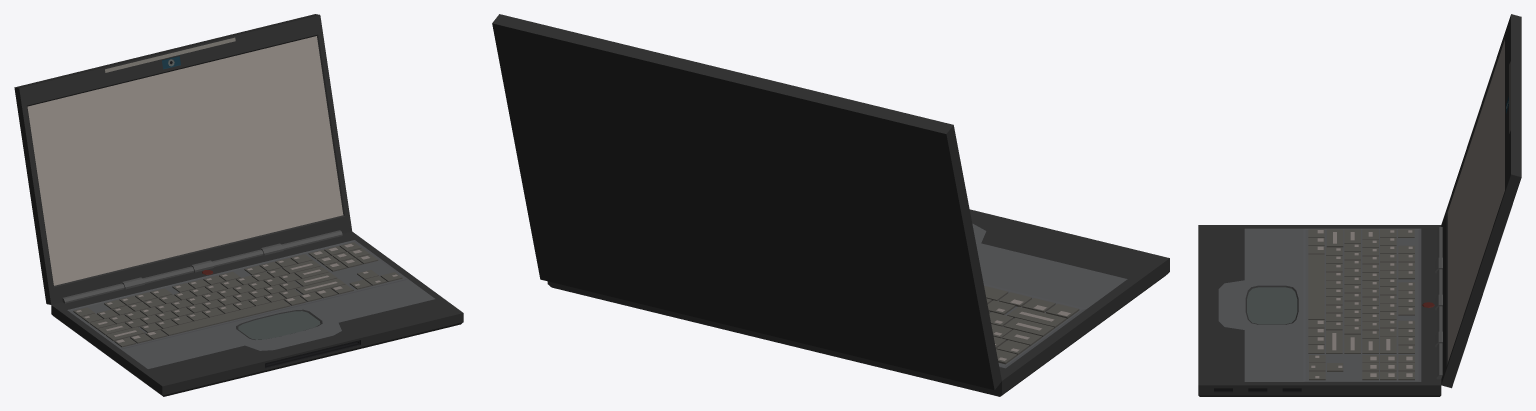
File: Notebook.gltf
The picture shows the model from 3 angles, left to right: view 1: azimuth 30°, elevation 25°; view 2: azimuth 150°, elevation 25°; view 3: azimuth 270°, elevation 25°; orthographic projection. The views are drawn at different scales.
Parts seen in each view (by area): view 1: Laptop_Screen, Notebook; view 2: Laptop_Screen, Notebook; view 3: Notebook, Laptop_Screen.
Boxes of the visible parts, <box> form: Laptop_Screen: <box>14,14,352,304</box>; Notebook: <box>51,230,463,396</box>; Laptop_Screen: <box>492,14,1001,390</box>; Notebook: <box>547,209,1169,396</box>; Notebook: <box>1198,225,1442,396</box>; Laptop_Screen: <box>1441,14,1521,388</box>.
Size of the model in its own units: 0.4747 by 0.3085 by 0.4044.
